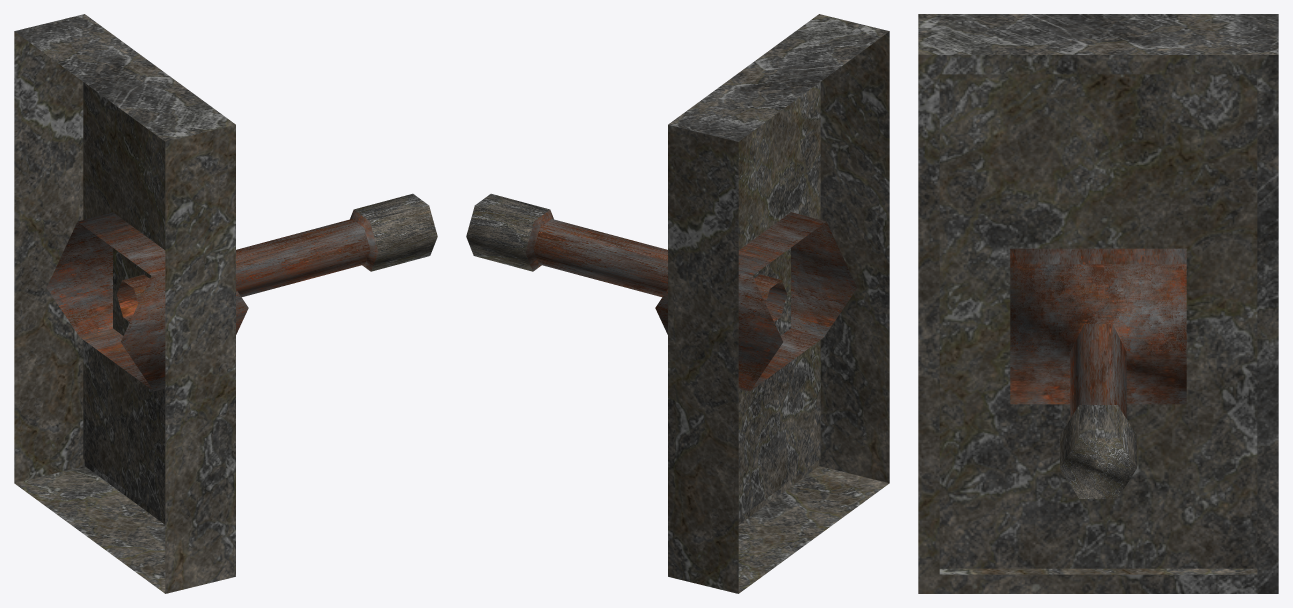
File: lever_anim11.obj
The picture shows the model from 3 angles, left to right: view 1: azimuth 30°, elevation 25°; view 2: azimuth 150°, elevation 25°; view 3: azimuth 270°, elevation 25°; orthographic projection. The views are drawn at different scales.
Visible parts, largest first — view 1: Cube, Cylinder; view 2: Cube, Cylinder; view 3: Cube, Cylinder.
Boxes of the visible parts, bbox=[...] form: Cube: bbox=[14, 14, 235, 593]; Cylinder: bbox=[46, 193, 437, 391]; Cube: bbox=[668, 14, 889, 593]; Cylinder: bbox=[466, 193, 857, 391]; Cube: bbox=[918, 14, 1278, 593]; Cylinder: bbox=[1010, 248, 1186, 498].
Size of the model in its own units: 1.57 by 2 by 1.21.
2 materials, 2 textured.
